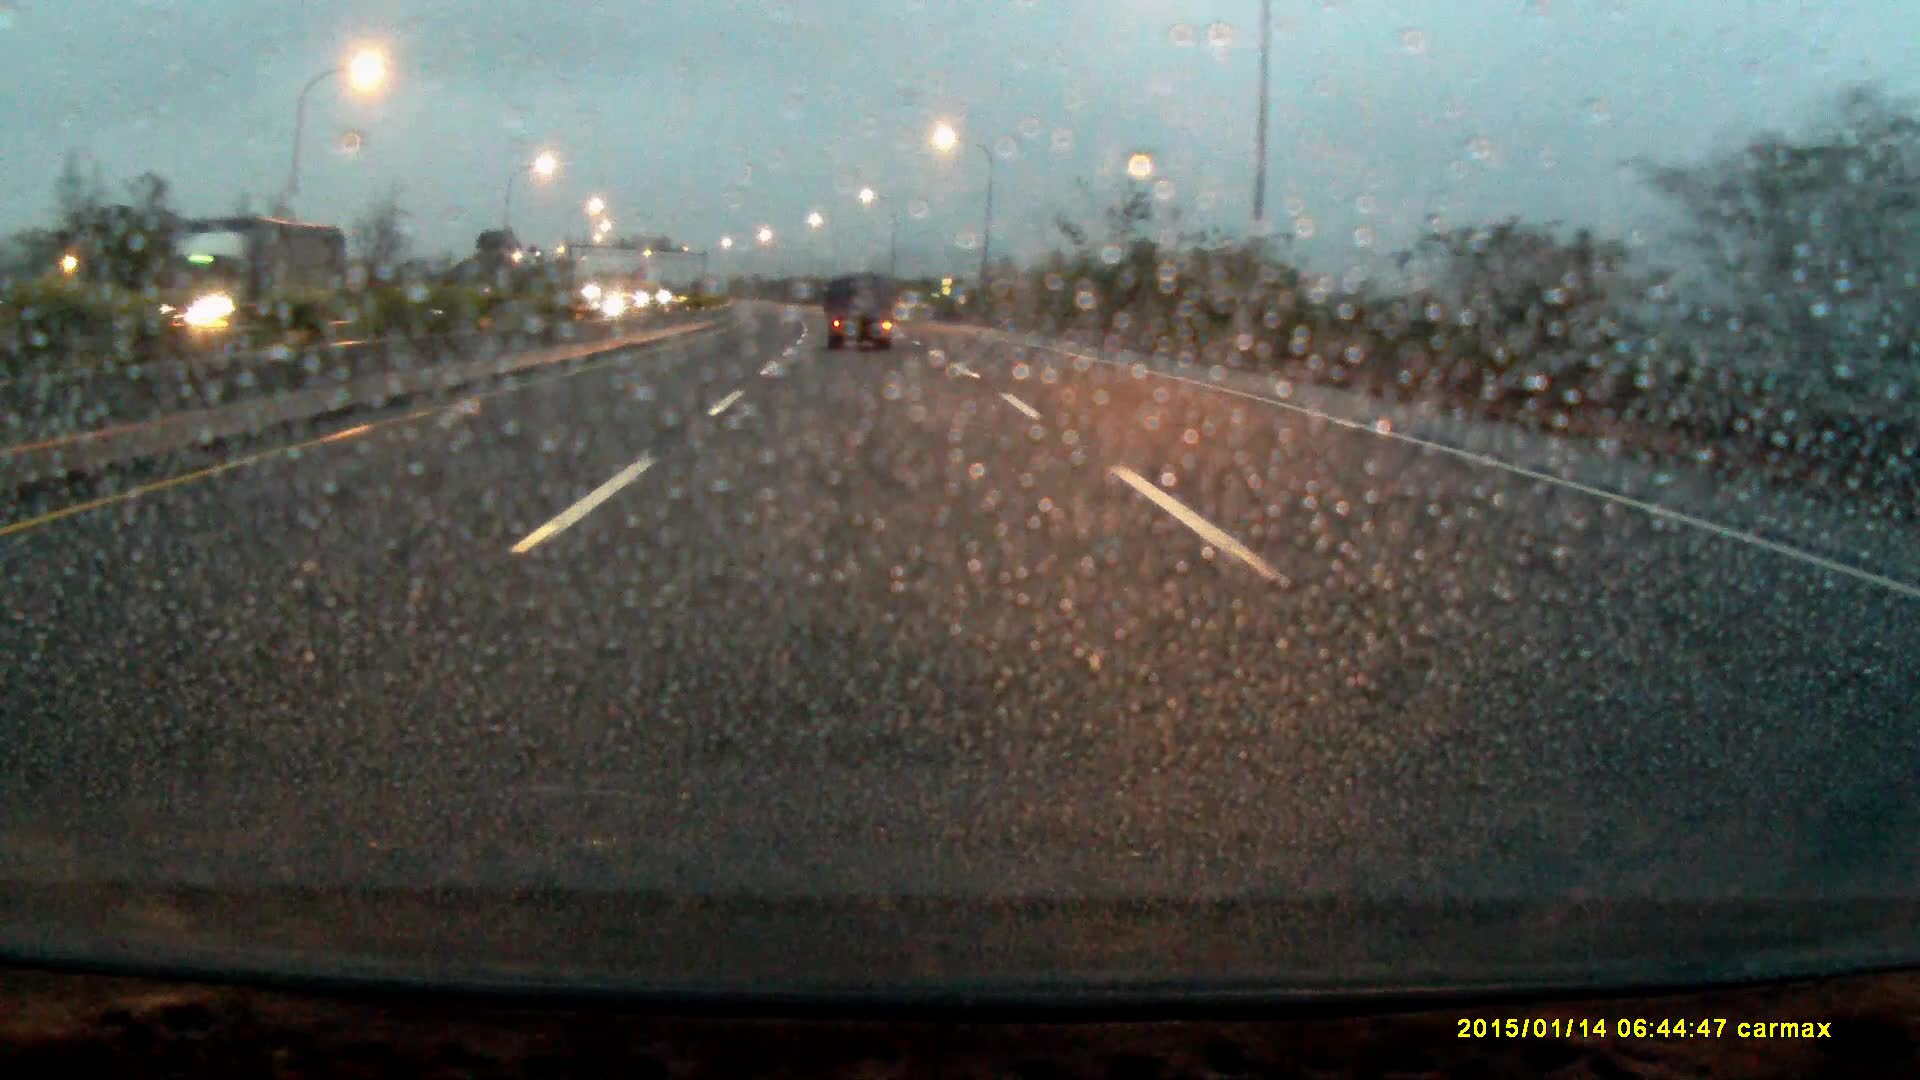vehicle: (135, 219, 348, 363), (825, 277, 899, 349), (600, 291, 641, 314)
